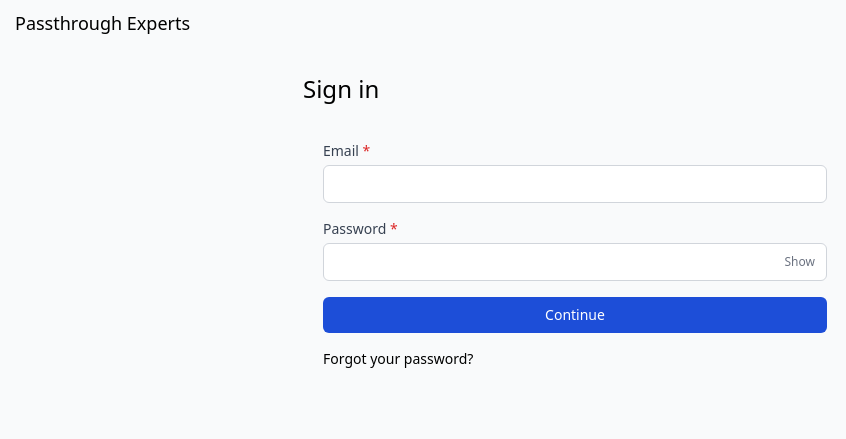
Test case: signed out › a wrong password shows the server's message and stays on the page
Type "a@b.co" into the field labelled "Email *" at (575, 184), box [323, 165, 827, 203]
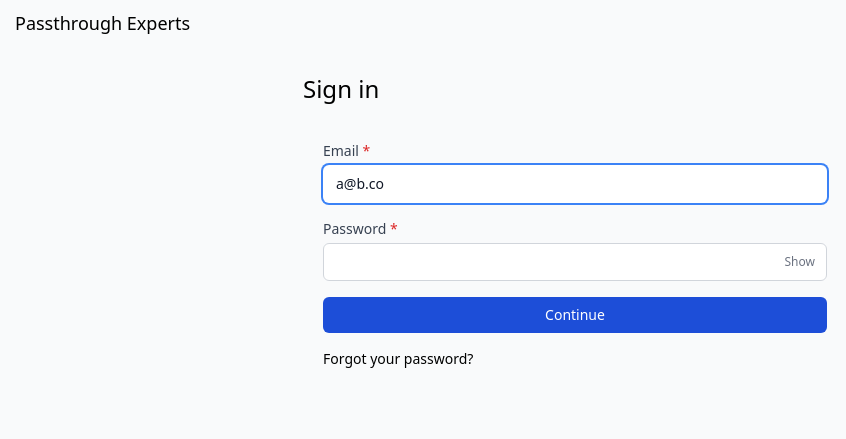
Type "x" into the password field labelled "Password *" at (575, 262), box [323, 243, 827, 281]
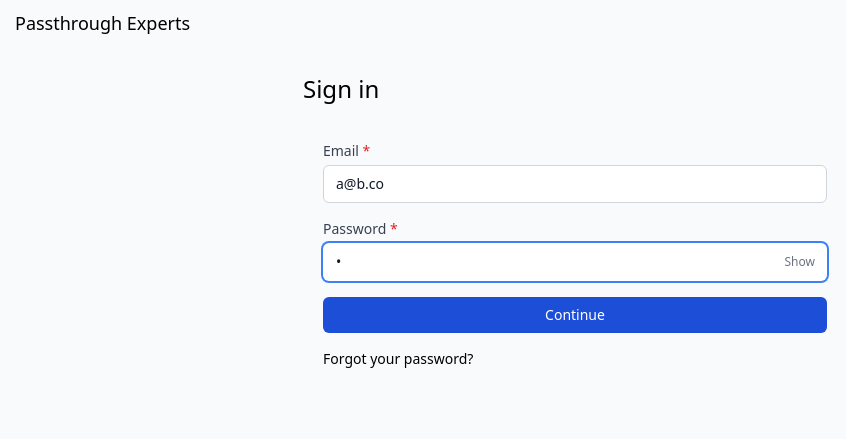
Click the button "Continue" at (575, 315), box [323, 297, 827, 333]
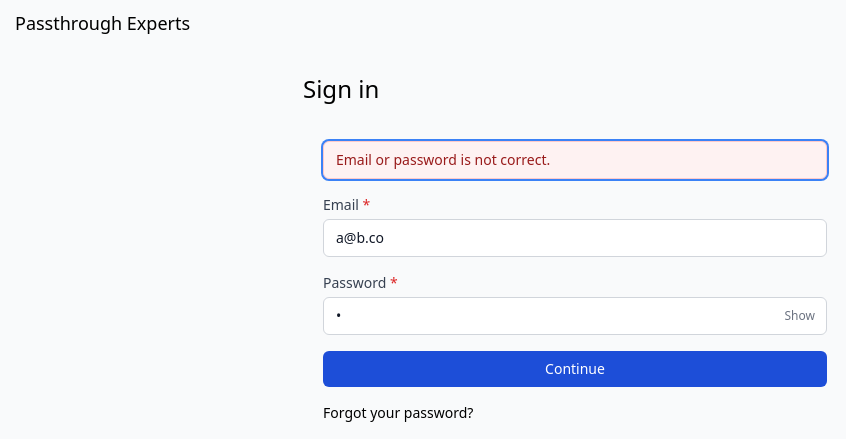
Check: the heading "Sign in" is shown, box [303, 72, 379, 105]
Check: the text "Email or password is not correct." is shown, box [323, 141, 827, 179]
